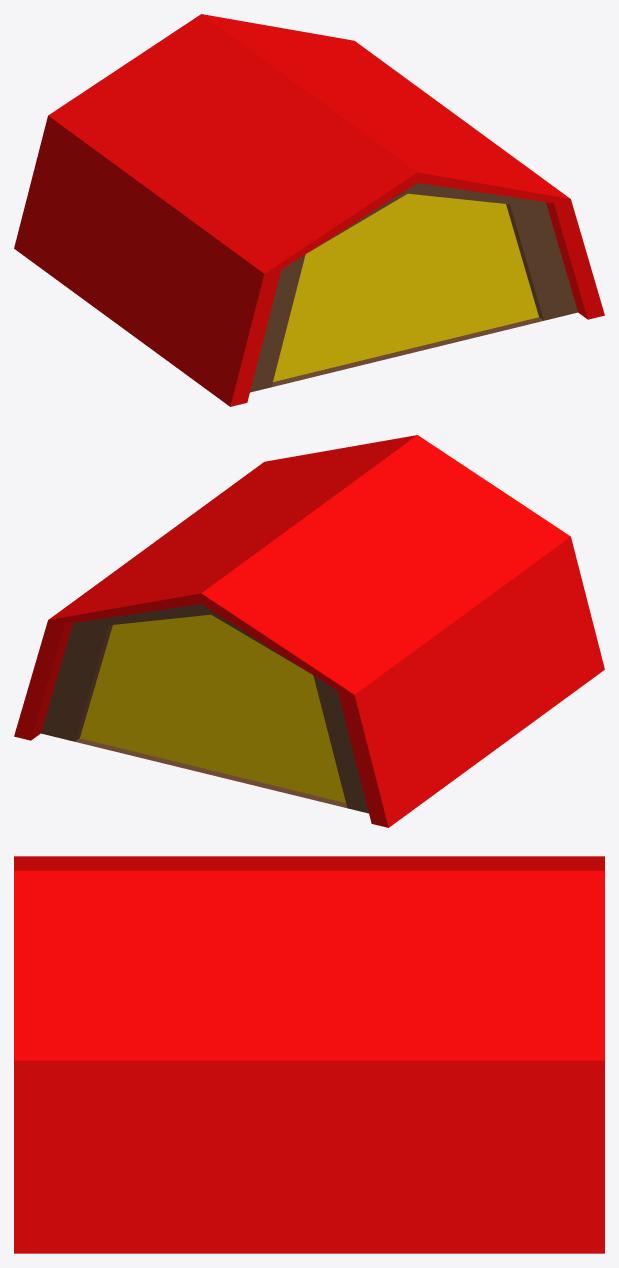
The model's file is house_roof.fbx.
3 renders of one model, top to bottom at view 1: azimuth 30°, elevation 25°; view 2: azimuth 150°, elevation 25°; view 3: azimuth 270°, elevation 25°, orthographic. The views are drawn at different scales.
Visible parts, largest first — view 1: Roof; view 2: Roof; view 3: Roof.
Boxes of the visible parts, left/top/right/bottom form: Roof: left=14, top=14, right=604, bottom=406; Roof: left=14, top=435, right=604, bottom=827; Roof: left=14, top=856, right=604, bottom=1253.
Bounding box in the file's own units: 2200 × 1060 × 2200.
